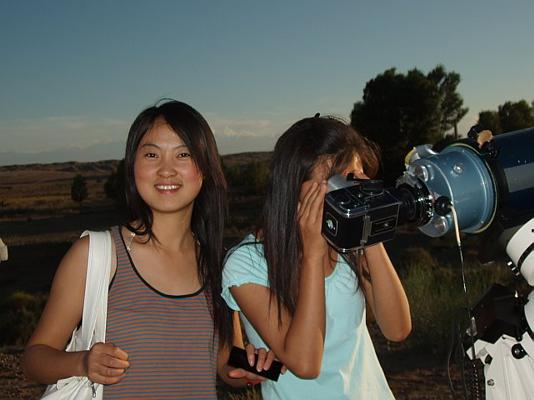person: (218, 113, 413, 400)
